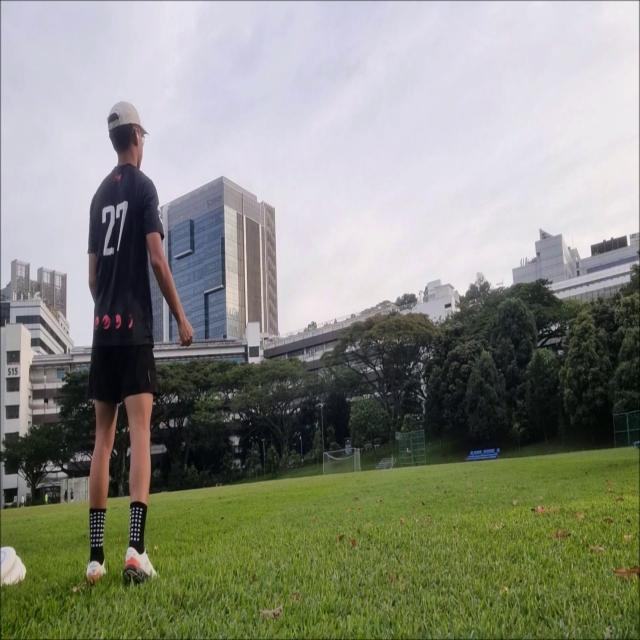disc: (495, 282, 505, 286)
